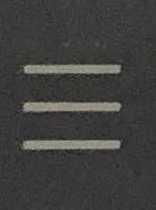menu: (2, 42, 154, 185)
